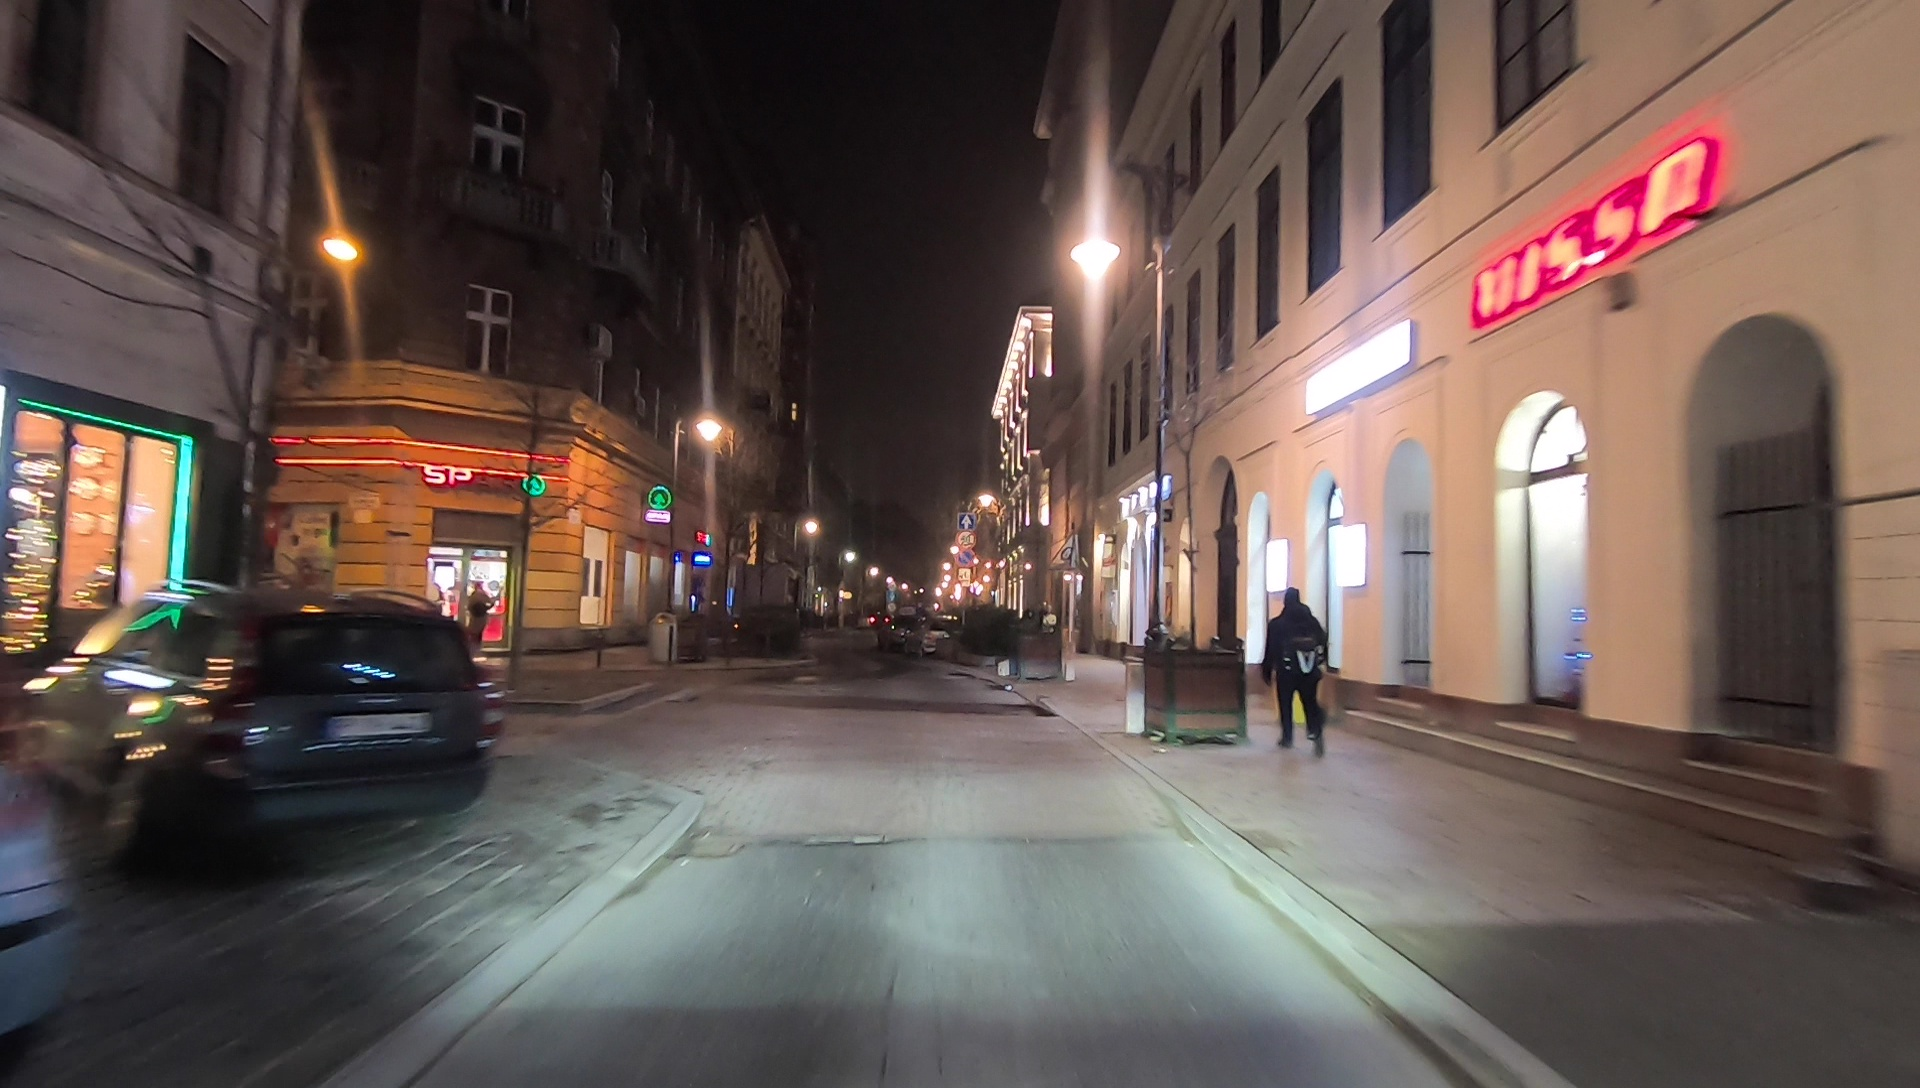person: (1260, 582, 1339, 752), (467, 584, 491, 661)
